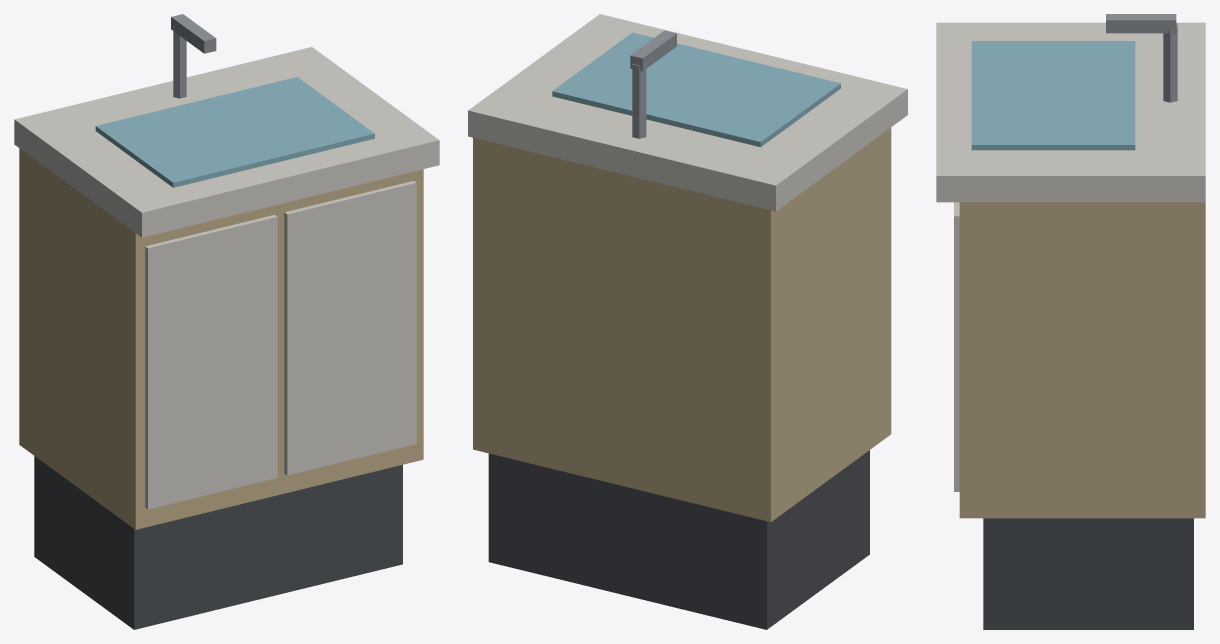
Rendered from basin.glb.
The picture shows the model from 3 angles, left to right: view 1: azimuth 30°, elevation 25°; view 2: azimuth 150°, elevation 25°; view 3: azimuth 270°, elevation 25°; orthographic projection. The views are drawn at different scales.
Parts seen in each view (by area): view 1: basin; view 2: basin; view 3: basin.
Boxes of the visible parts, x1,y1,x2,y2 form: basin: (14,14,439,629); basin: (468,14,907,629); basin: (936,14,1205,629).
Size of the model in its own units: 0.62 by 1.02 by 0.46.
